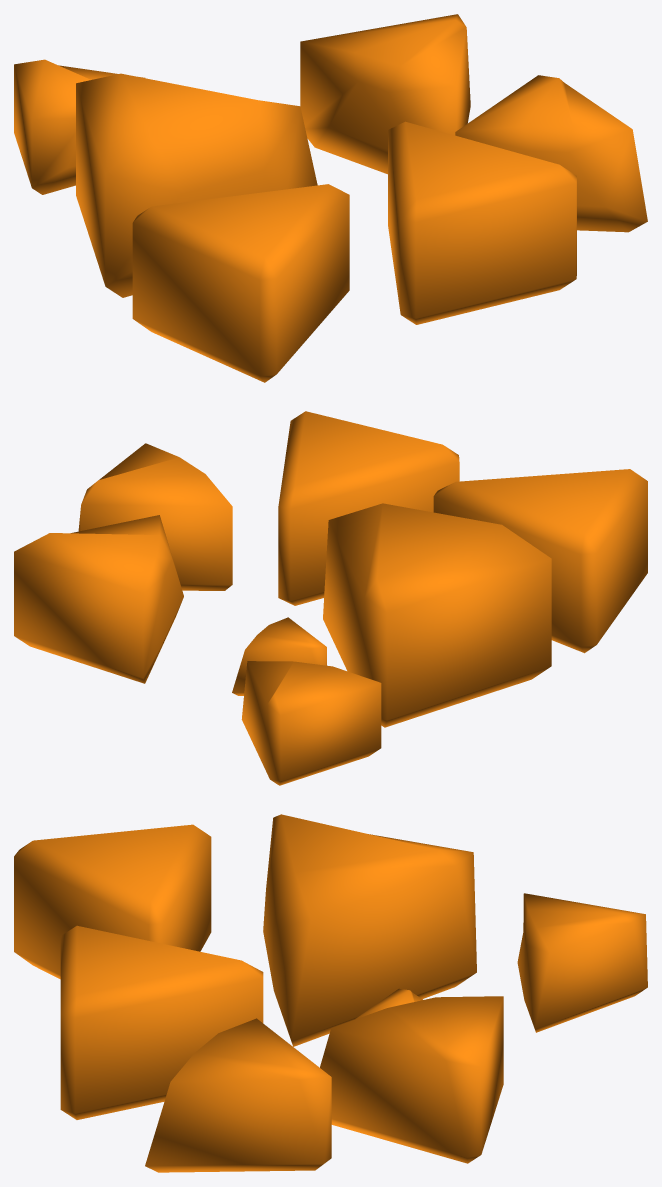
The model's file is Kalabasa_Pieces.glb.
3 renders of one model, top to bottom at view 1: azimuth 30°, elevation 25°; view 2: azimuth 150°, elevation 25°; view 3: azimuth 270°, elevation 25°, orthographic. The views are drawn at different scales.
Visible parts, largest first — view 1: Plane.006, Plane, Plane.001, Plane.002, Plane.005, Plane.003; view 2: Plane.001, Plane.002, Plane.006, Plane, Plane.003, Plane.005, Plane.004; view 3: Plane.001, Plane, Plane.002, Plane.006, Plane.005, Plane.003, Plane.004.
Part boxes in pixels (x1,y1,x2,y2): Plane.006: (132,184,349,382); Plane: (388,121,576,324); Plane.001: (76,73,317,297); Plane.002: (300,14,470,174); Plane.005: (455,75,647,232); Plane.003: (14,59,144,194); Plane.001: (323,503,551,727); Plane.002: (14,515,183,683); Plane.006: (433,469,647,653); Plane: (278,411,459,605); Plane.003: (241,661,381,785); Plane.005: (78,443,232,590); Plane.004: (232,617,326,695); Plane.001: (263,814,476,1046); Plane: (60,925,263,1119); Plane.002: (320,996,503,1163); Plane.006: (14,824,211,979); Plane.005: (145,1018,331,1172); Plane.003: (517,893,647,1032); Plane.004: (355,988,422,1019).
Size of the model in its own units: 0.2149 by 0.0693 by 0.2428.
